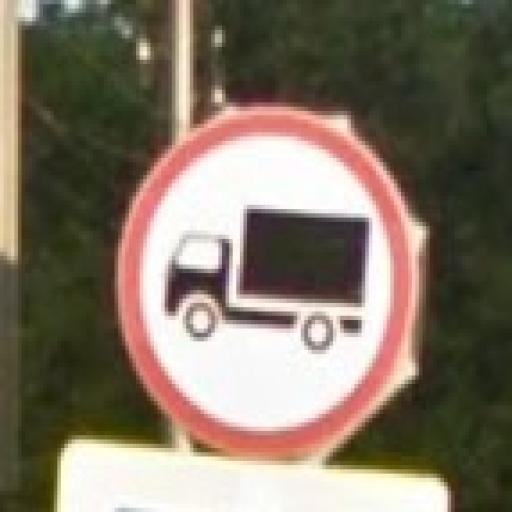traffic_sign: (112, 108, 409, 458)
